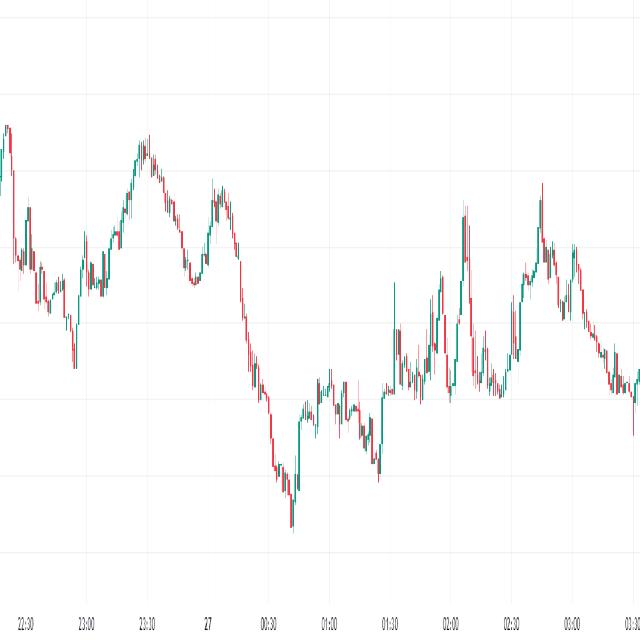Double-Top: (115, 109, 255, 353)
Inverse-Head-Shoulders: (7, 114, 147, 394)
